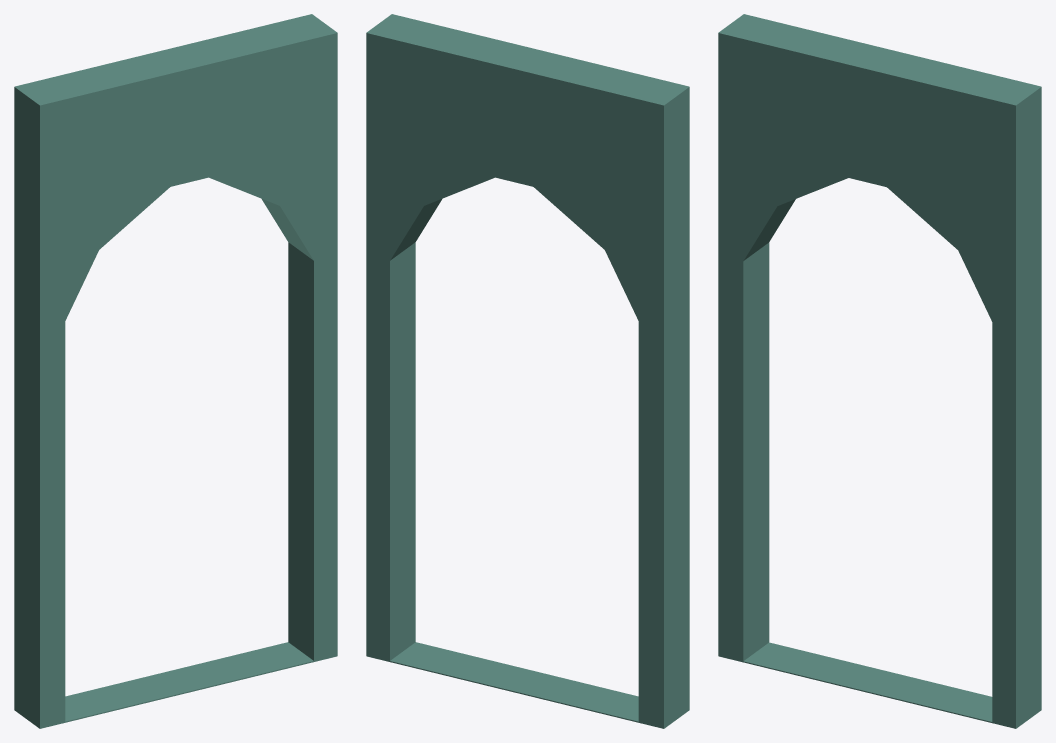
Rendered from GreenGreyDoorframe.glb.
3 views of the same model, side by side, from view 1: azimuth 30°, elevation 25°; view 2: azimuth 150°, elevation 25°; view 3: azimuth 330°, elevation 25° (orthographic).
Visible parts, largest first — view 1: wall_greenGrey_door; view 2: wall_greenGrey_door; view 3: wall_greenGrey_door.
Boxes of the visible parts, x1,y1,x2,y2 form: wall_greenGrey_door: (14,14,337,728); wall_greenGrey_door: (366,14,689,728); wall_greenGrey_door: (718,14,1041,728).
Size of what is drawn, in the model's own units: 2 by 4 by 0.3.
Materials: 1 (1 with a texture image).
